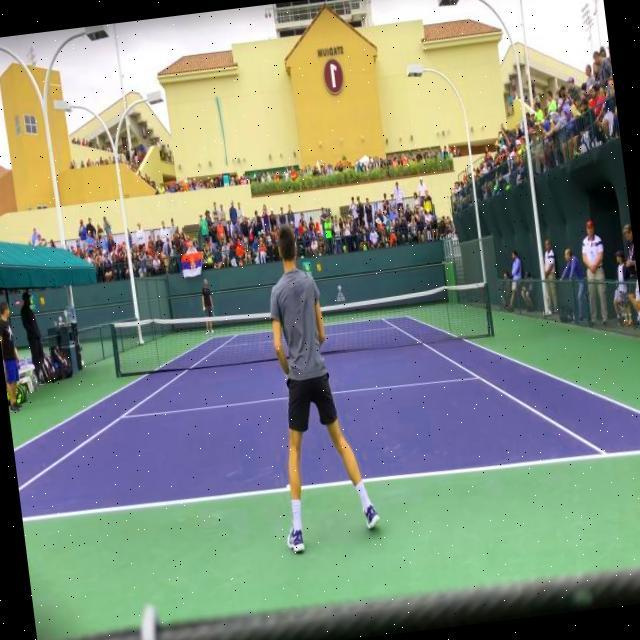court: (2, 284, 640, 531)
net: (108, 274, 496, 380)
player: (246, 217, 384, 558)
